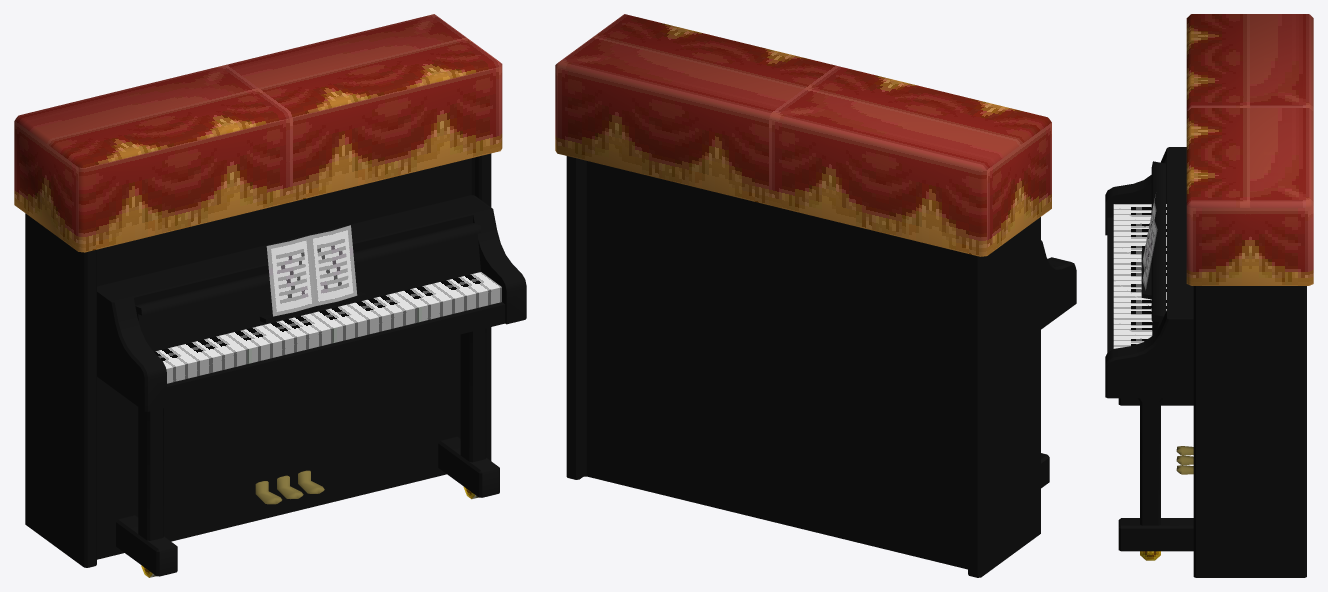
Rendered from int_oth_piano_u.dae.
3 views of the same model, side by side, from view 1: azimuth 30°, elevation 25°; view 2: azimuth 150°, elevation 25°; view 3: azimuth 270°, elevation 25° (orthographic). The views are drawn at different scales.
Visible parts, largest first — view 1: int_oth_piano_u; view 2: int_oth_piano_u; view 3: int_oth_piano_u.
Boxes of the visible parts, bbox=[...] form: int_oth_piano_u: bbox=[14, 14, 526, 577]; int_oth_piano_u: bbox=[555, 14, 1076, 577]; int_oth_piano_u: bbox=[1105, 14, 1313, 577].
Bounding box in the file's own units: 50 × 46 × 23.
Materials: 4 (4 with a texture image).
